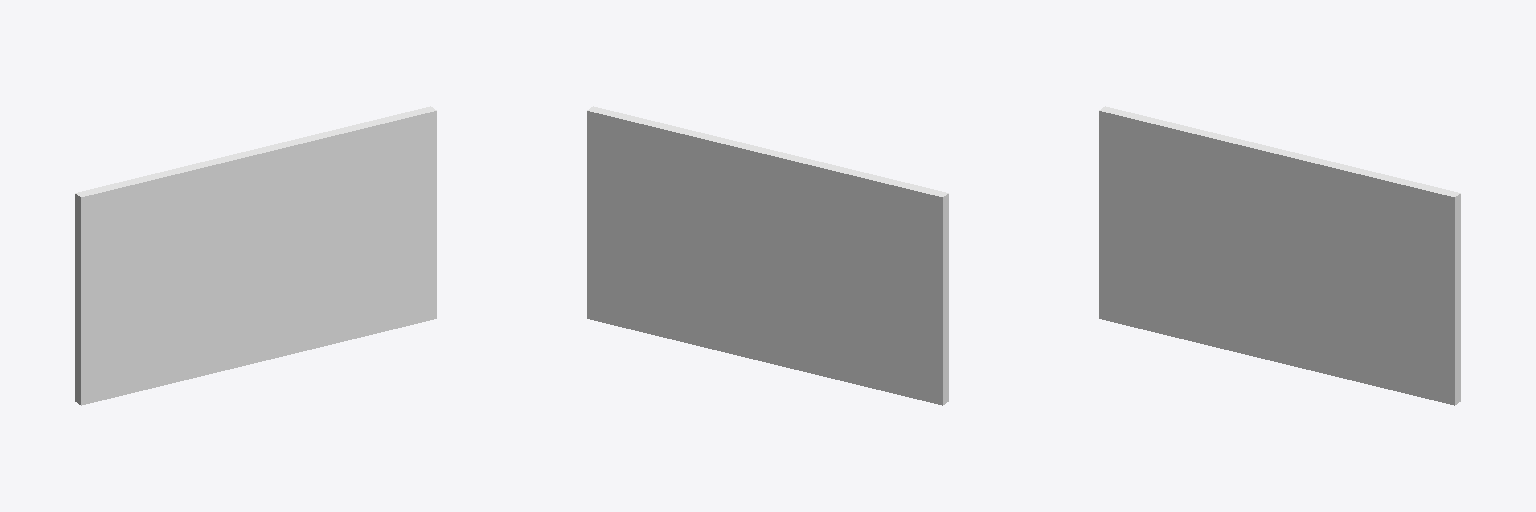
The model's file is bulletin-board-bg.obj.
3 renders of one model, left to right at view 1: azimuth 30°, elevation 25°; view 2: azimuth 150°, elevation 25°; view 3: azimuth 330°, elevation 25°, orthographic.
Parts seen in each view (by area): view 1: object 1; view 2: object 1; view 3: object 1.
Part boxes in pixels (x1,y1,x2,y2): object 1: (75, 106, 436, 405); object 1: (587, 106, 948, 405); object 1: (1099, 106, 1460, 405).
Size of the model in its own units: 3.4 by 1.9 by 0.1.